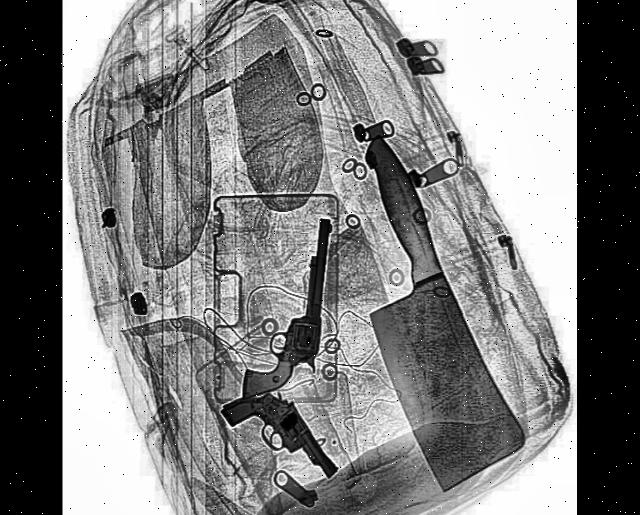Gun: (243, 206, 336, 413), (220, 358, 341, 515)
Knife: (310, 125, 529, 508)
